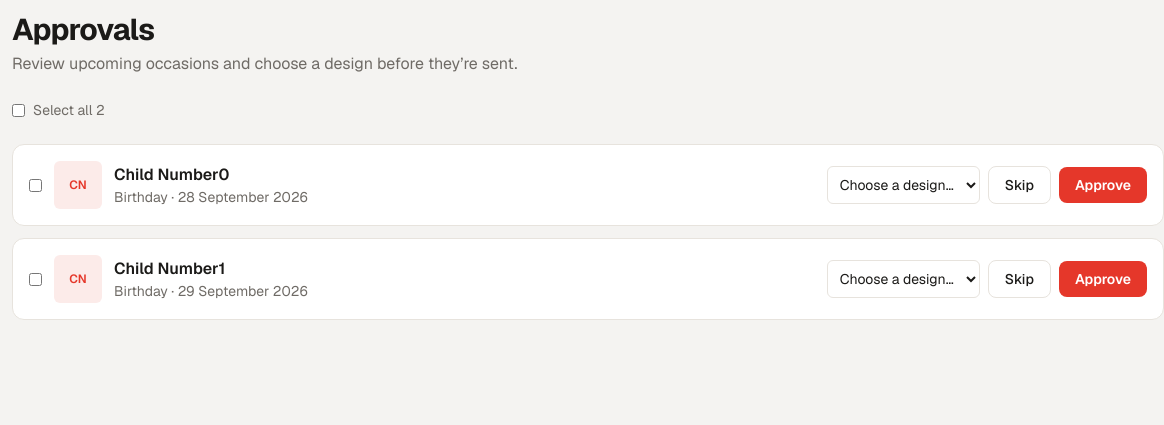
Test: ApprovalsClient › approving a whole selection with one design › names who could not be approved and why, rather than counting them
Click the checkbox labelled "Select all 2" at coordinates (18, 110), box [12,104,25,116]
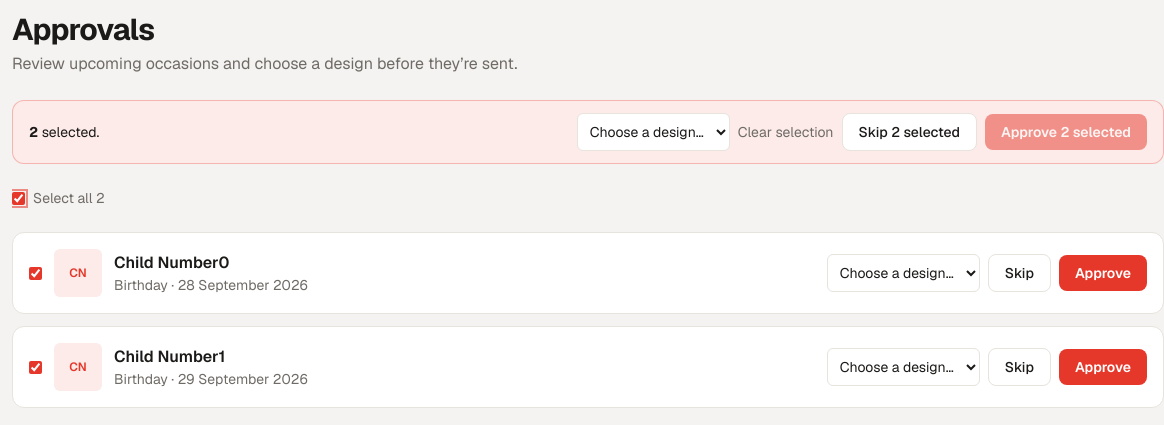
Select "Happy Birthday" in the dropdown named "Design to approve the selected cards with" at coordinates (653, 132), box [577,113,730,151]
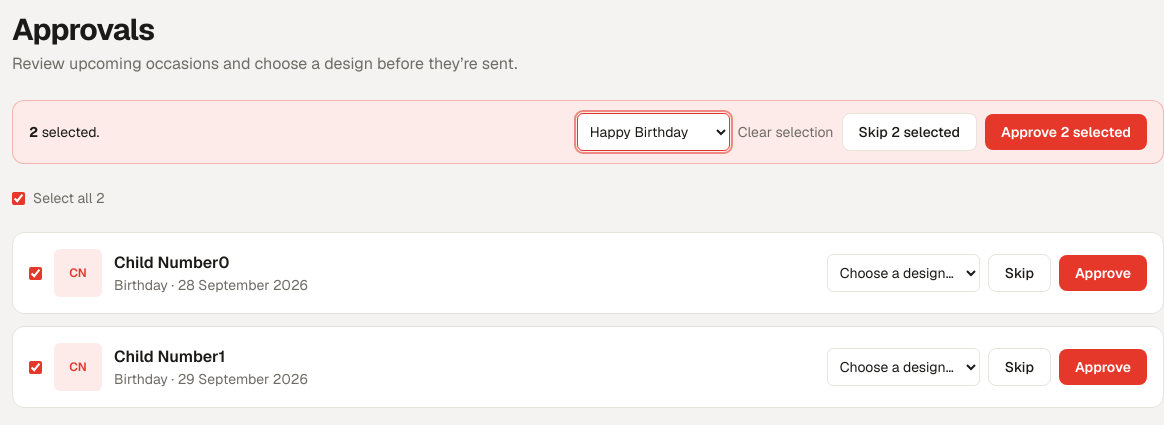
Click the button "Approve 2 selected" at coordinates (1066, 132), box [985,114,1147,150]
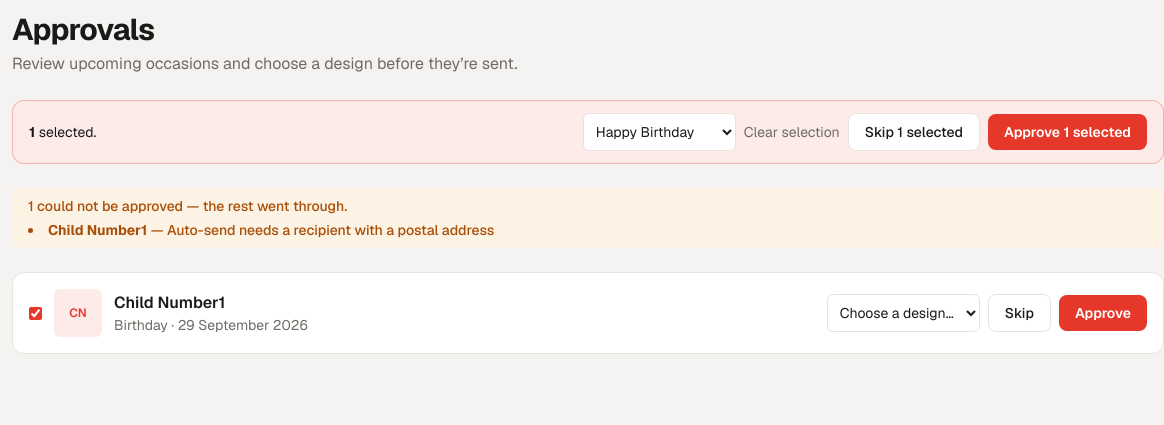
Now the text "1 could not be approved — the rest went through." is shown, box [28,197,347,215]
Now the list item "postal address" is shown, box [167,221,494,239]
Now the 1st text "Child Number1" is shown, box [48,221,147,239]
